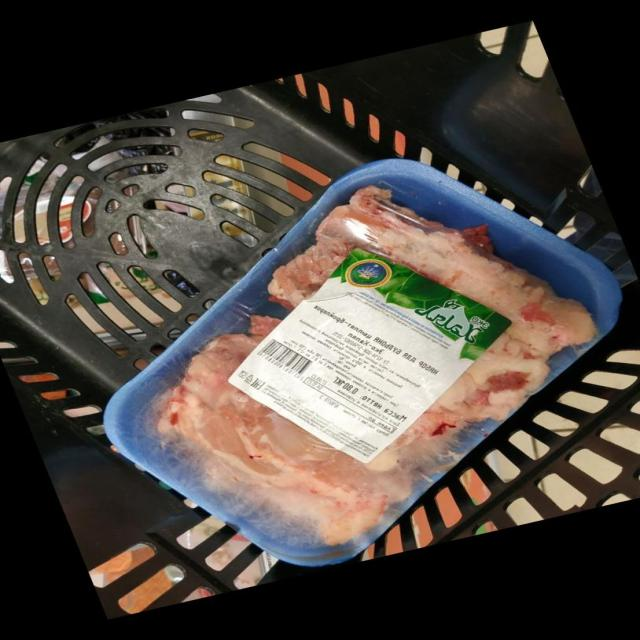Meat: (103, 159, 621, 566)
